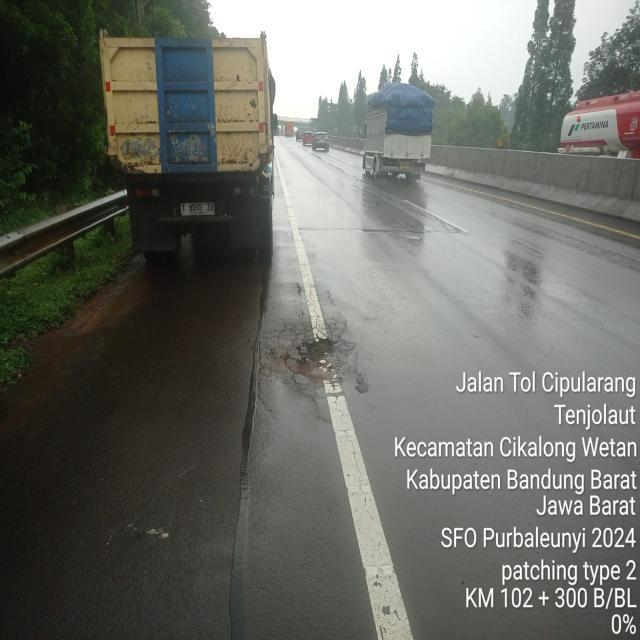Buraco: (277, 334, 359, 386)
